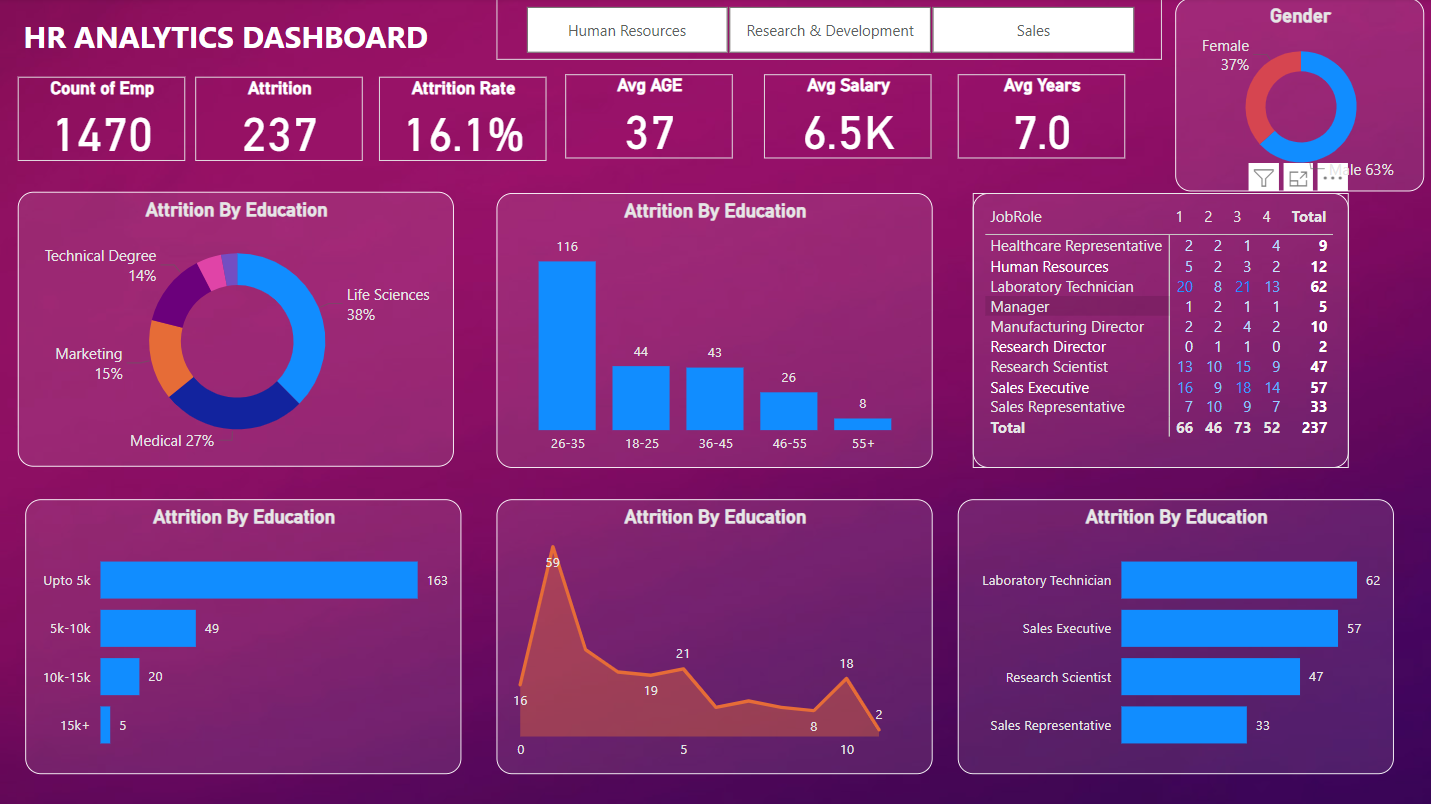

What the dashboard file says about the page in this screenshot:
{"tool":"powerbi","page":{"name":"Page 1","canvas":[1280,720],"ordinal":0},"visuals":[{"type":"card","title":"Count of Emp","fields":{"Values":["CountNonNull(HR_Analytics.EmpID)"]},"box":[16.5,70,149.6,75.5],"z":0},{"type":"card","title":"Attrition","fields":{"Values":["Sum(HR_Analytics.AttritionCount)"]},"box":[175.6,70,149.6,75.5],"z":1000},{"type":"card","title":"Attrition Rate","fields":{"Values":["HR_Analytics.AttritionRate"]},"box":[338.9,70,149.6,75.5],"z":2000},{"type":"card","title":"Avg AGE","fields":{"Values":["Avg(HR_Analytics.Age)"]},"box":[506.3,68.6,149.6,75.5],"z":3000},{"type":"card","title":"Avg Salary","fields":{"Values":["Avg(HR_Analytics.MonthlyIncome)"]},"box":[683.4,68.6,149.6,75.5],"z":4000},{"type":"card","title":"Avg Years","fields":{"Values":["Avg(HR_Analytics.YearsAtCompany)"]},"box":[856.3,68.6,149.6,75.5],"z":5000},{"type":"donutChart","title":"Attrition By Education","fields":{"Category":["HR_Analytics.EducationField"],"Y":["Sum(HR_Analytics.AttritionCount)"]},"box":[16.5,172.9,389.7,245.6],"z":6000},{"type":"columnChart","title":"Attrition By Education","fields":{"Category":["HR_Analytics.AgeGroup"],"Y":["Sum(HR_Analytics.AttritionCount)"]},"box":[444.6,174.3,389.7,245.6],"z":7000},{"type":"pivotTable","fields":{"Rows":["HR_Analytics.JobRole"],"Columns":["HR_Analytics.JobSatisfaction"],"Values":["Sum(HR_Analytics.AttritionCount)"]},"box":[870,174.3,336.2,245.6],"z":8000},{"type":"barChart","title":"Attrition By Education","fields":{"Category":["HR_Analytics.SalarySlab"],"Y":["Sum(HR_Analytics.AttritionCount)"]},"box":[23.3,447.3,389.7,245.6],"z":9000},{"type":"barChart","title":"Attrition By Education","fields":{"Y":["Sum(HR_Analytics.AttritionCount)"],"Category":["HR_Analytics.JobRole"]},"box":[856.3,447.3,389.7,245.6],"z":10000},{"type":"areaChart","title":"Attrition By Education","fields":{"Category":["HR_Analytics.YearsAtCompany"],"Y":["Sum(HR_Analytics.AttritionCount)"]},"box":[444.6,447.3,389.7,245.6],"z":11000},{"type":"donutChart","title":"Gender","fields":{"Y":["Sum(HR_Analytics.AttritionCount)"],"Category":["HR_Analytics.Gender"]},"box":[1051.1,0,222.3,172.9],"z":12000},{"type":"slicer","fields":{"Values":["HR_Analytics.Department"]},"box":[444.6,0,594.2,54.9],"z":13000},{"type":"textbox","box":[16.5,11,415.8,57.6],"z":13001}]}

Visuals, with their boxes in screenshot pixels (x1, y1, x2, y2), scaled from the page's 1280x720 canvas onto the 1431x804 screenshot:
"Count of Emp" card: region(18, 78, 186, 162)
"Attrition" card: region(196, 78, 364, 162)
"Attrition Rate" card: region(379, 78, 546, 162)
"Avg AGE" card: region(566, 77, 733, 161)
"Avg Salary" card: region(764, 77, 931, 161)
"Avg Years" card: region(957, 77, 1125, 161)
"Attrition By Education" donutChart: region(18, 193, 454, 467)
"Attrition By Education" columnChart: region(497, 195, 933, 469)
pivotTable - HR_Analytics.JobRole x HR_Analytics.JobSatisfaction: region(973, 195, 1348, 469)
"Attrition By Education" barChart: region(26, 499, 462, 774)
"Attrition By Education" barChart: region(957, 499, 1393, 774)
"Attrition By Education" areaChart: region(497, 499, 933, 774)
"Gender" donutChart: region(1175, 0, 1424, 193)
slicer - HR_Analytics.Department: region(497, 0, 1161, 61)
textbox: region(18, 12, 483, 77)
